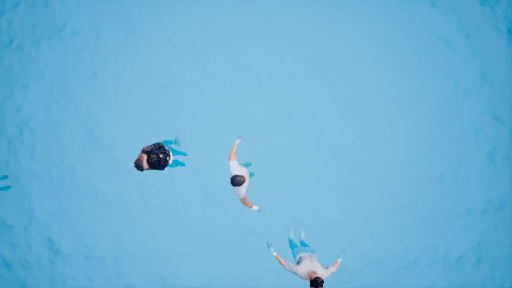person: (266, 227, 350, 288), (223, 138, 263, 210), (127, 136, 197, 174)
